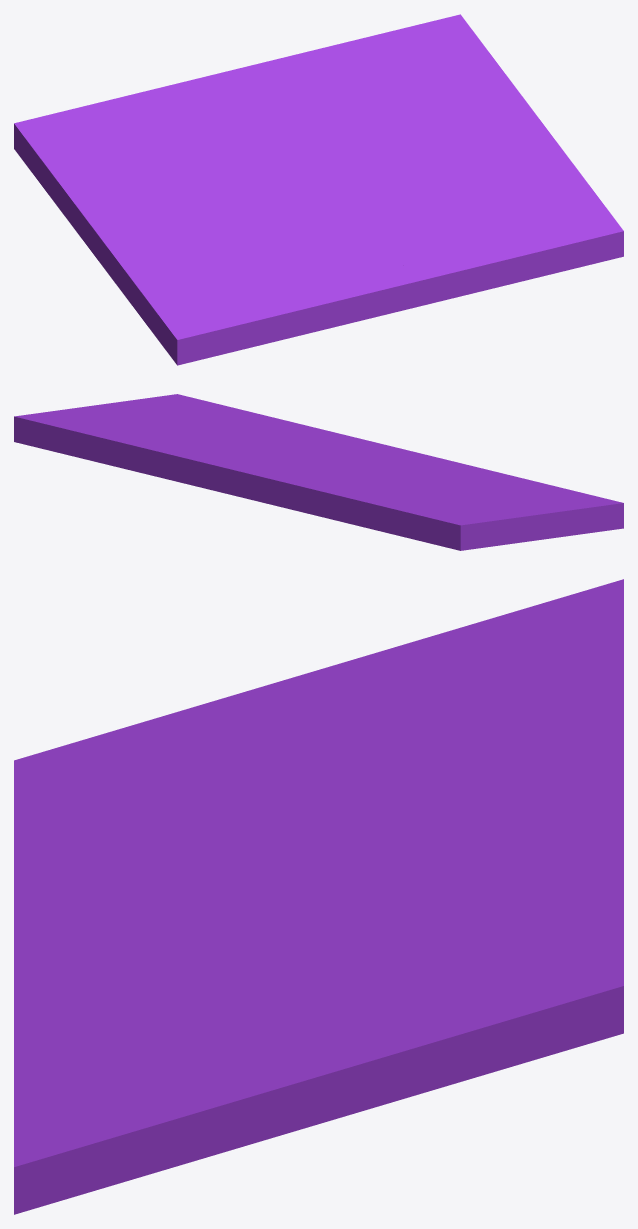
The model's file is Window_133_chunks.fbx.
3 views of the same model, one above another, from view 1: azimuth 30°, elevation 25°; view 2: azimuth 150°, elevation 25°; view 3: azimuth 270°, elevation 25° (orthographic). The views are drawn at different scales.
Parts seen in each view (by area): view 1: Window_133_0, Window_133_2, Window_133_3, Window_133_1; view 2: Window_133_0, Window_133_1, Window_133_2, Window_133_3; view 3: Window_133_2, Window_133_0, Window_133_3, Window_133_1.
Part boxes in pixels (x1=…): Window_133_0: x1=45, y1=164, x2=418, y2=365; Window_133_2: x1=330, y1=22, x2=623, y2=307; Window_133_3: x1=237, y1=14, x2=465, y2=186; Window_133_1: x1=14, y1=69, x2=266, y2=194; Window_133_0: x1=323, y1=444, x2=623, y2=545; Window_133_1: x1=143, y1=471, x2=495, y2=550; Window_133_2: x1=14, y1=394, x2=382, y2=457; Window_133_3: x1=14, y1=415, x2=348, y2=473; Window_133_2: x1=14, y1=885, x2=623, y2=1214; Window_133_0: x1=14, y1=614, x2=507, y2=979; Window_133_3: x1=291, y1=782, x2=623, y2=999; Window_133_1: x1=360, y1=579, x2=623, y2=823.
Size of the model in its own units: 1838 by 482 by 1165.
